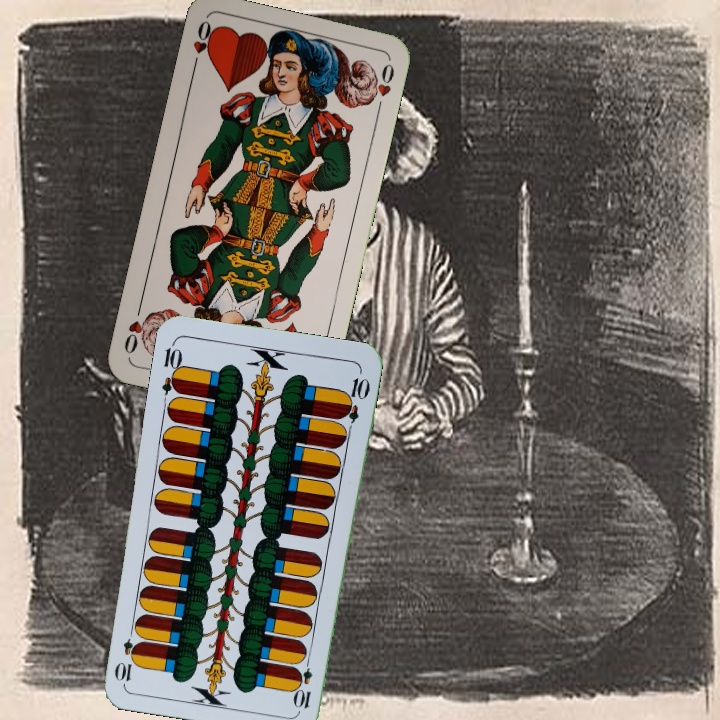E10: (158, 337, 186, 396), (293, 652, 315, 711)
HO: (188, 16, 219, 75)
